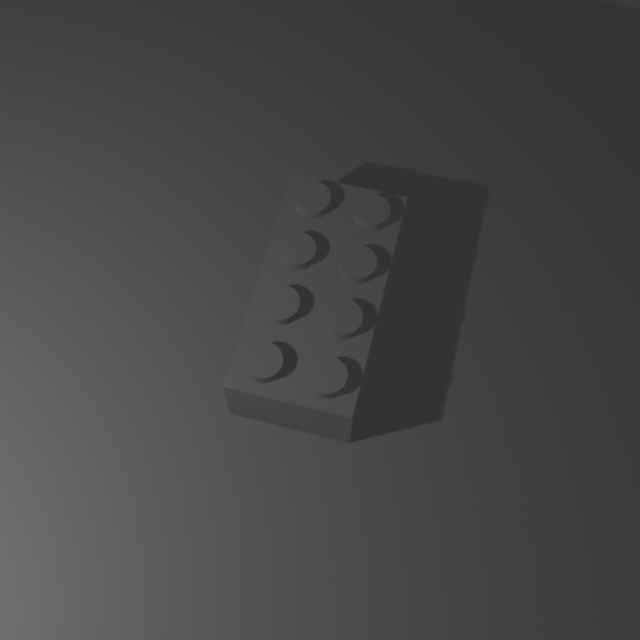lego_2x4: (222, 166, 409, 443)
